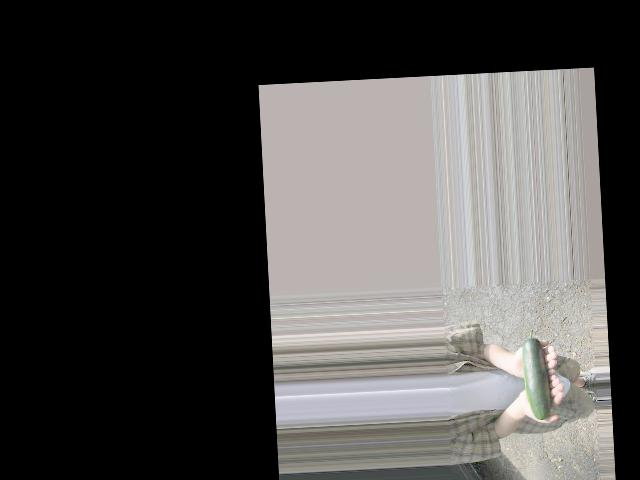cucumber: (521, 326, 552, 419)
